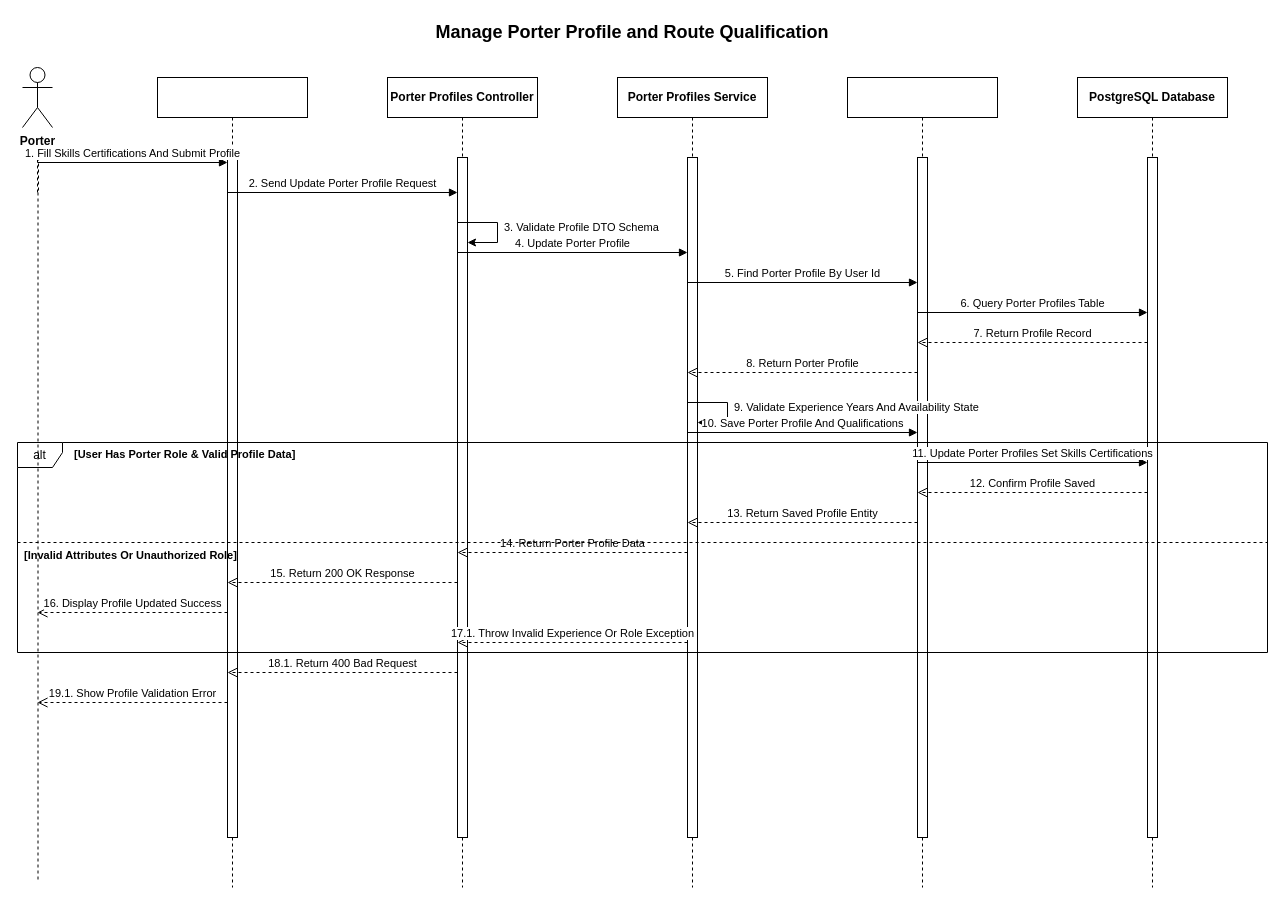
This 1285x905 diagram has some shape labels left out. The box of each missing label's shape, as (x1, y1, x2, y2) in pixels:
Porter Profile Form: (156, 76, 308, 888)
Porter Profiles Model: (846, 76, 998, 888)
